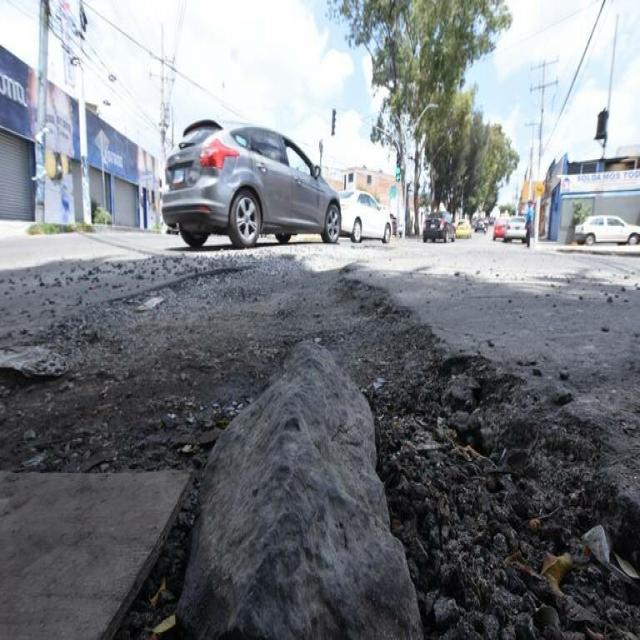Pothole: (43, 255, 607, 639)
